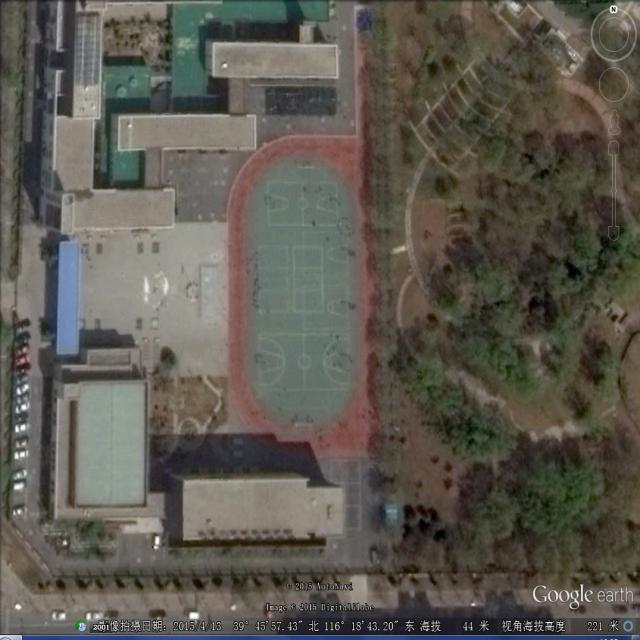playground: (224, 132, 381, 464)
